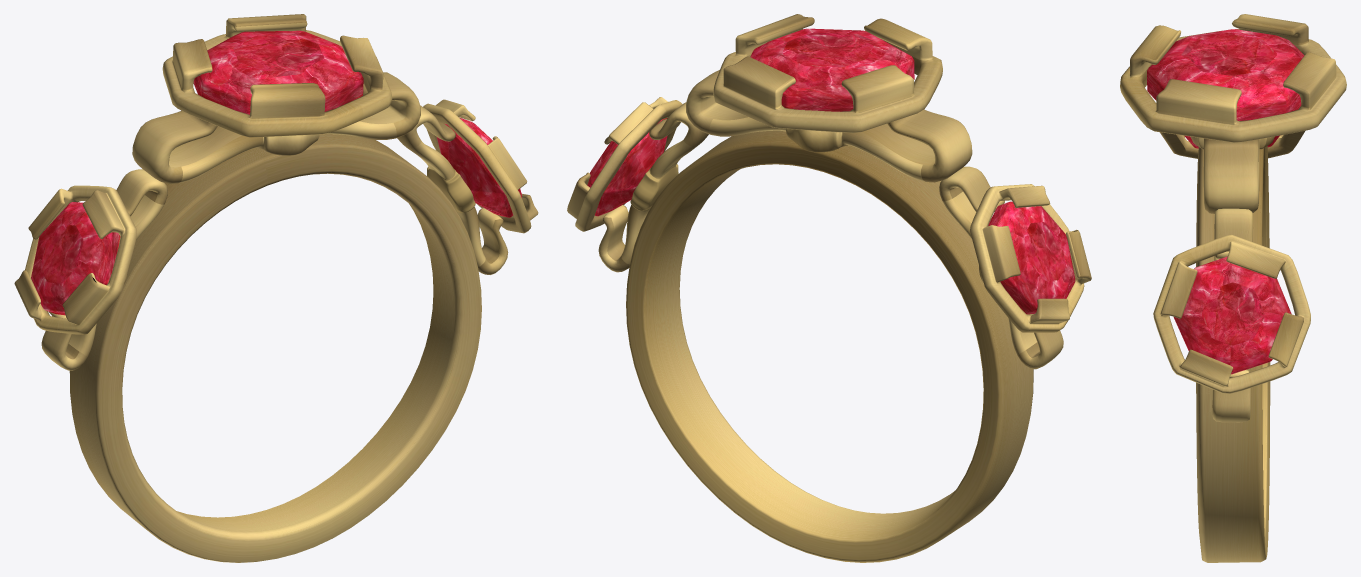
3 renders of one model, left to right at view 1: azimuth 30°, elevation 25°; view 2: azimuth 150°, elevation 25°; view 3: azimuth 270°, elevation 25°, orthographic.
Visible parts, largest first — view 1: RingType2; view 2: RingType2; view 3: RingType2.
Boxes of the visible parts, x1,y1,x2,y2 form: RingType2: (14,14,538,562); RingType2: (567,14,1091,562); RingType2: (1120,14,1346,562).
Bounding box in the file's own units: 1.12 × 1.1 × 0.4544.
4 materials, 4 textured.
